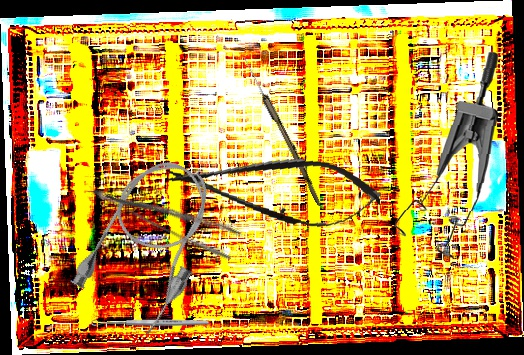Cannula: (65, 145, 235, 340)
Dressing Forceps: (89, 163, 244, 264)
Micro Scissor: (164, 142, 385, 237)
Speculum: (393, 47, 501, 260)
Surgical Spoon: (239, 55, 326, 207), (91, 319, 209, 326)
